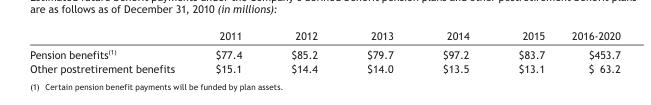table: (29, 28, 619, 73)
table column: (29, 28, 194, 73), (265, 28, 341, 73), (341, 28, 417, 73), (417, 28, 493, 73), (194, 28, 265, 73), (493, 28, 557, 73), (557, 28, 619, 73)
table column header: (29, 28, 619, 44)
table row: (29, 28, 619, 44), (29, 44, 619, 60), (29, 60, 619, 73)
